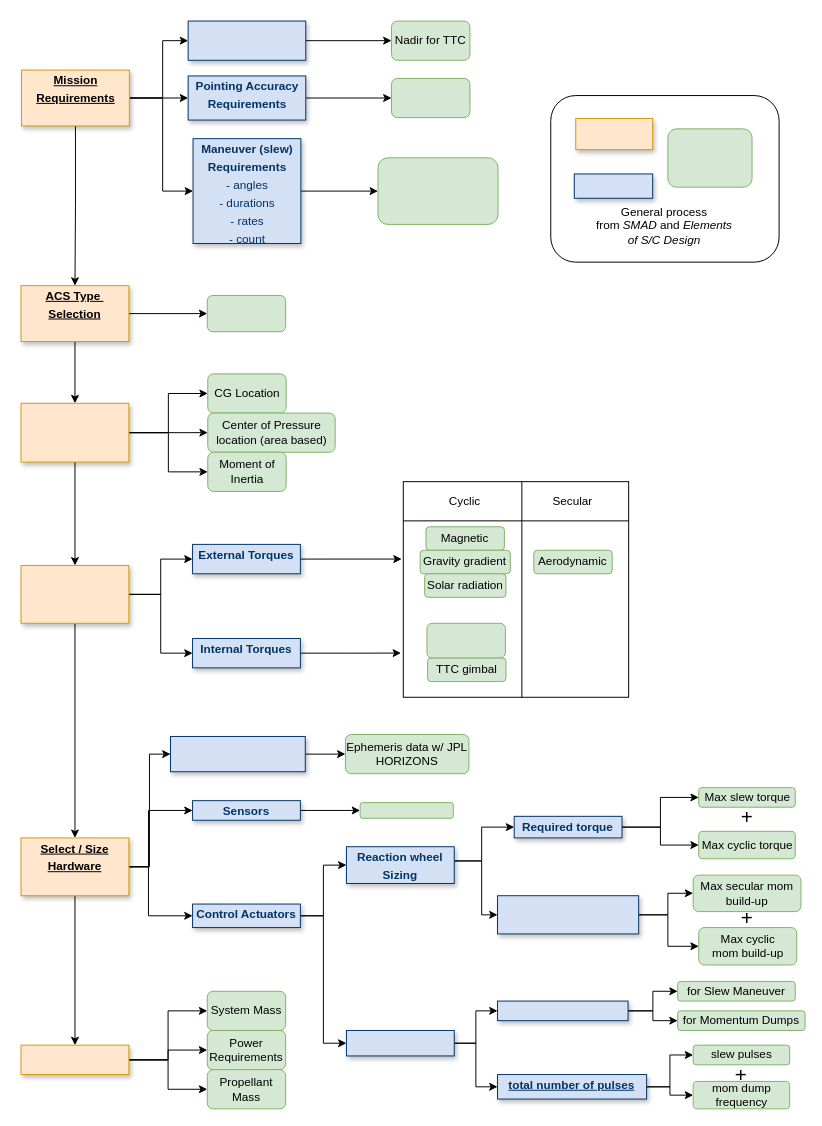
Image size: 822x1126. Some labels were removed from this diagram. The shapes that lost their labels are listed below. From the top down, each one's centre as x and y in pixels, then its label:
At (247,41): "Pointing Direction Requirements".
At (430,97): "0.5 deg".
At (615,135): "Design Step".
At (709,157): "Specific calculation/ result".
At (437,190): "- Orbit insertion - min/max drag -probe deployment".
At (614,187): "Sub-step".
At (246,313): "3-axis stabilized".
At (75,433): "Parametric geometry model".
At (75,595): "Quantify Disturbance Torques".
At (465,640): "Solar array rotation".
At (238,755): "Guidance / Navigation Architecture".
At (406,810): "Heritage-based".
At (569,916): "Required momentum storage".
At (563,1012): "Required Thrust".
At (75,1060): "Budgets Update".
At (401,1044): "Thrusters Sizing".
